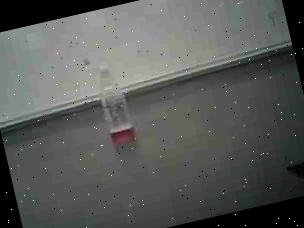hazard: (80, 50, 141, 147)
